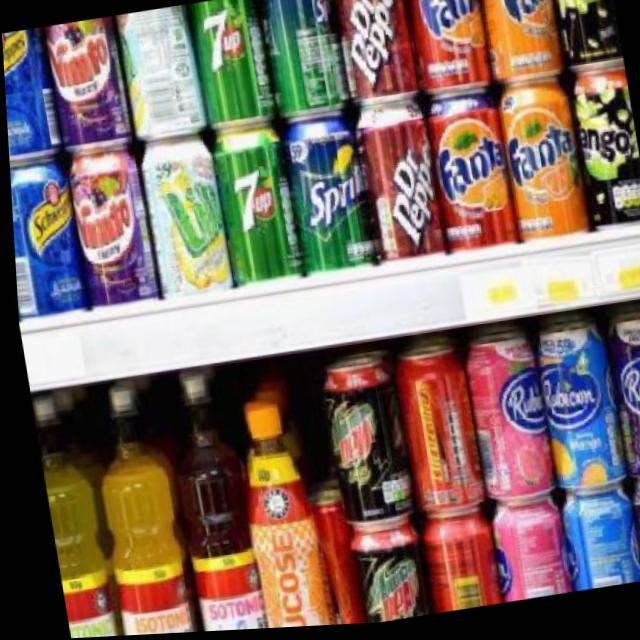Drinks: (306, 351, 412, 538), (278, 113, 377, 283), (205, 124, 304, 294), (492, 79, 590, 247), (420, 91, 516, 259), (353, 99, 443, 266), (184, 0, 277, 135), (255, 0, 349, 126), (332, 0, 422, 111), (335, 521, 427, 627), (401, 0, 493, 102), (473, 0, 565, 90)
